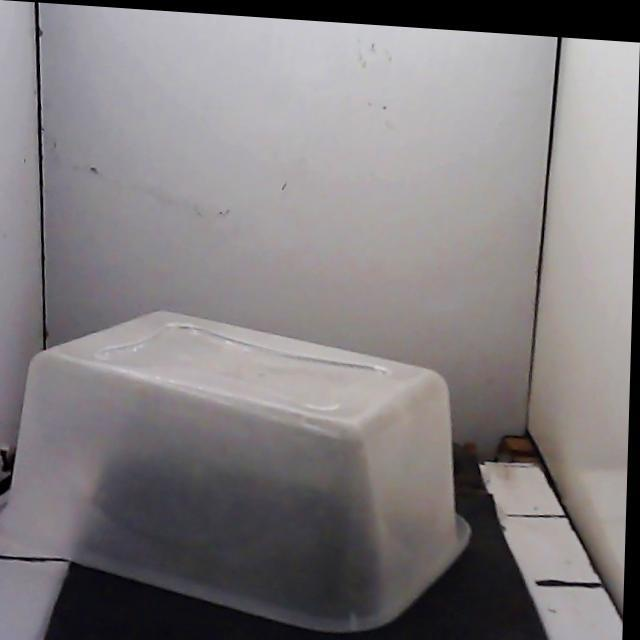plastico: (0, 312, 469, 632)
